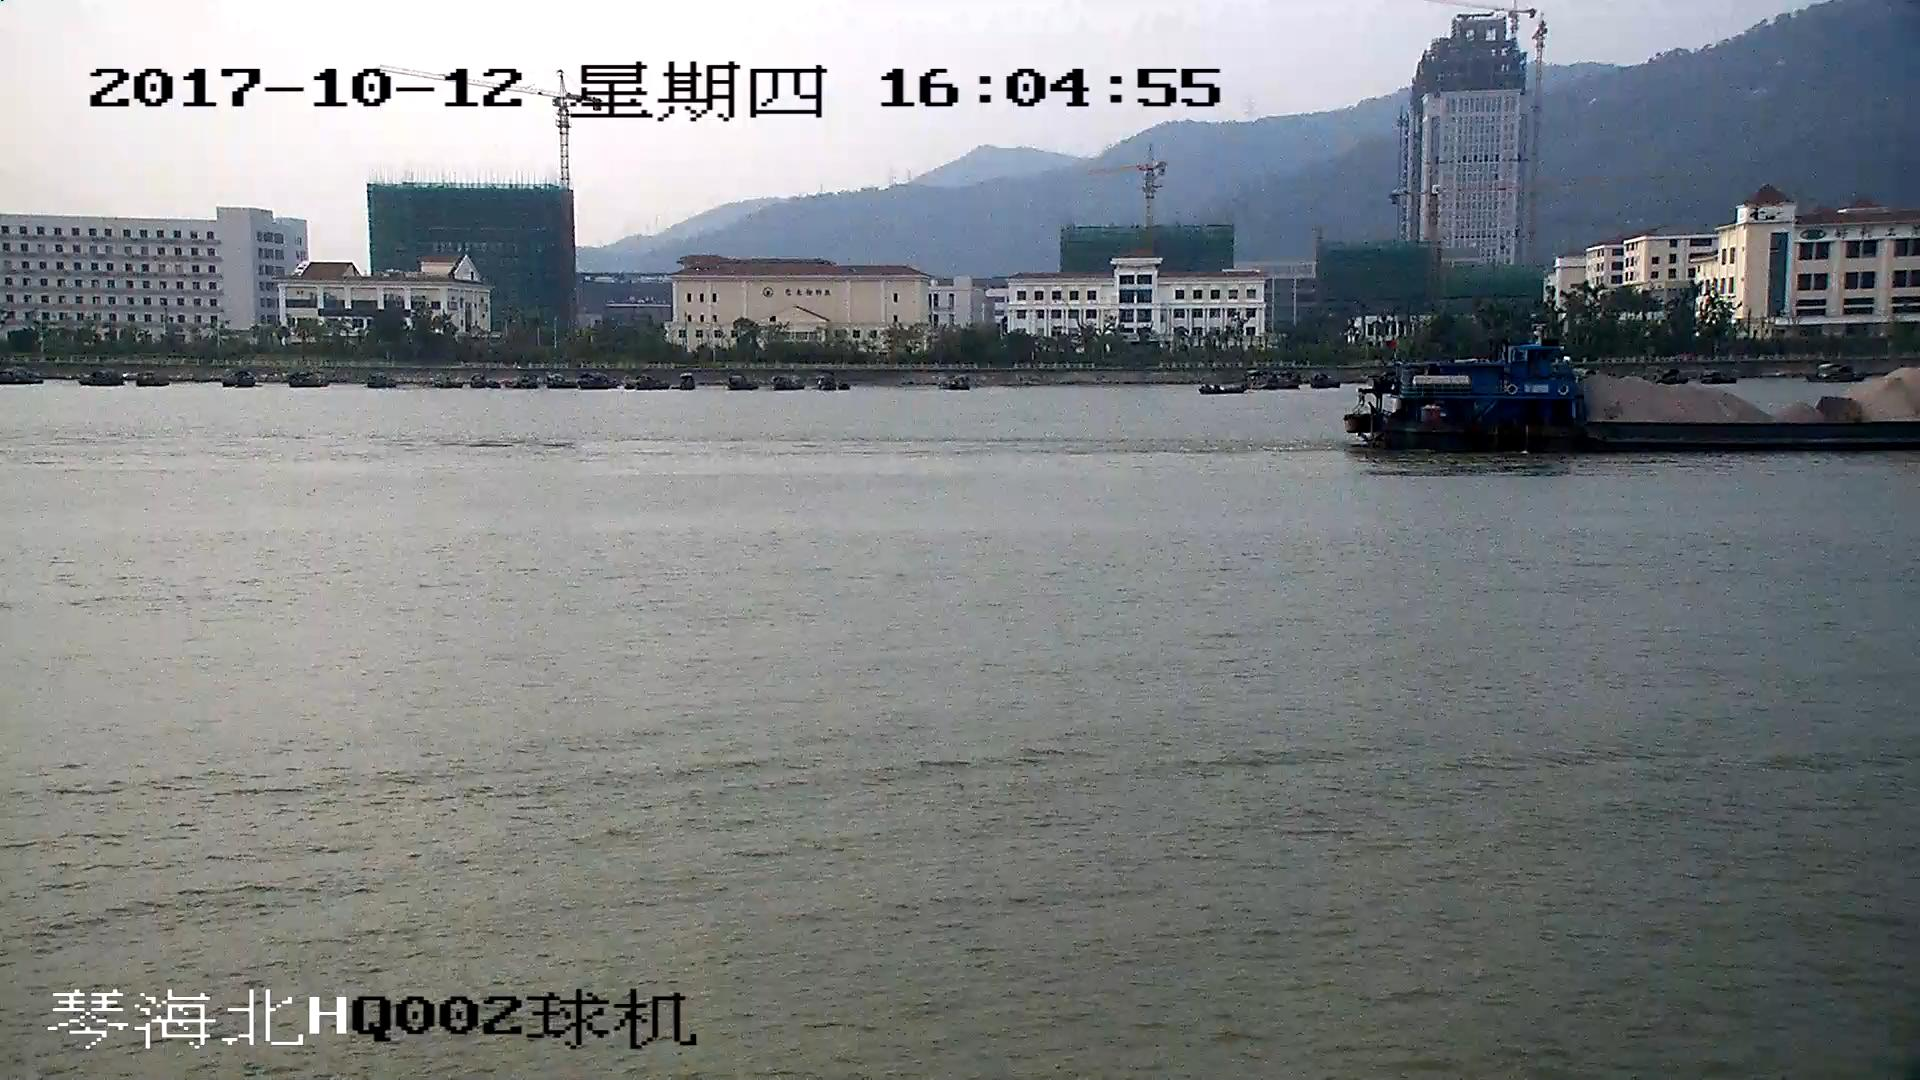ore carrier: (1346, 333, 1920, 450)
